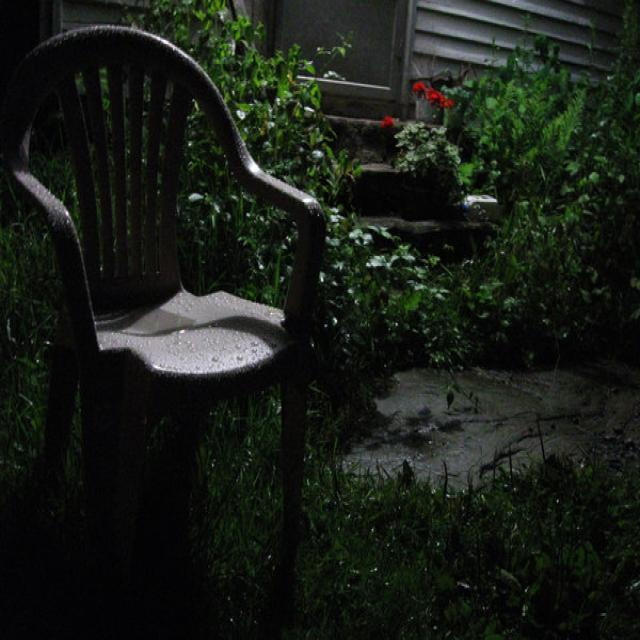chair: (7, 0, 348, 601)
